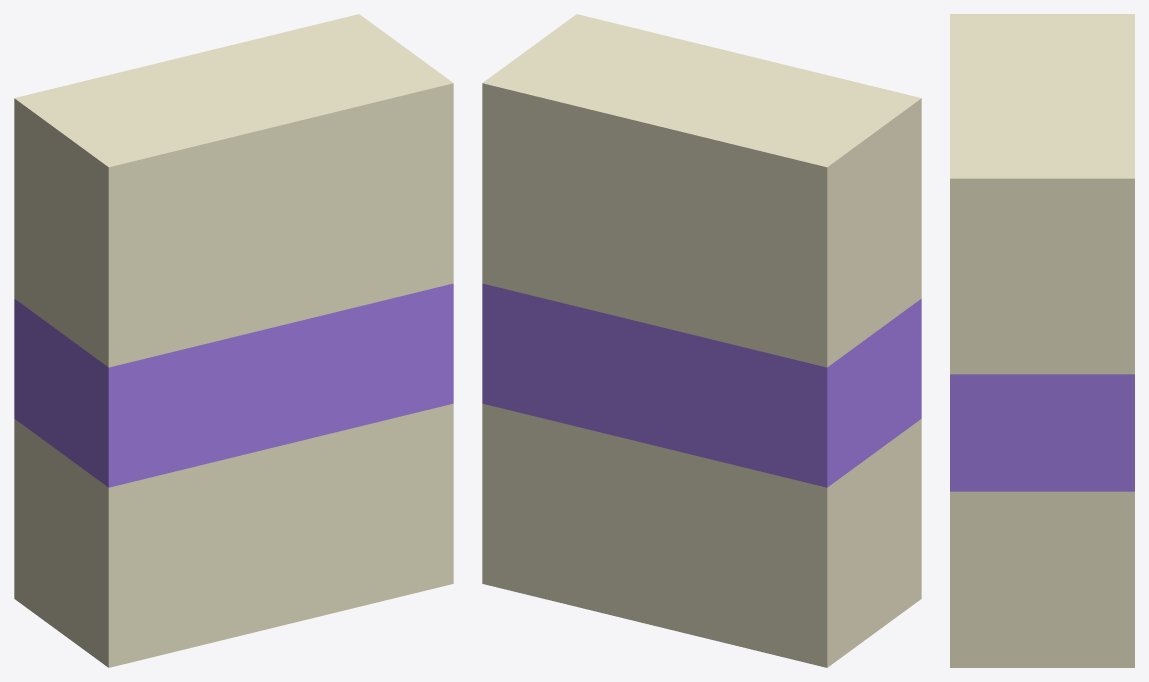
The model's file is Ürün45.fbx.
3 views of the same model, side by side, from view 1: azimuth 30°, elevation 25°; view 2: azimuth 150°, elevation 25°; view 3: azimuth 270°, elevation 25° (orthographic). The views are drawn at different scales.
Visible parts, largest first — view 1: pCube85; view 2: pCube85; view 3: pCube85.
Part boxes in pixels (<box>): pCube85: <box>14,14,453,667</box>; pCube85: <box>482,14,921,667</box>; pCube85: <box>950,14,1134,667</box>.
Size of the model in its own units: 23.51 by 32.6 by 11.16.
